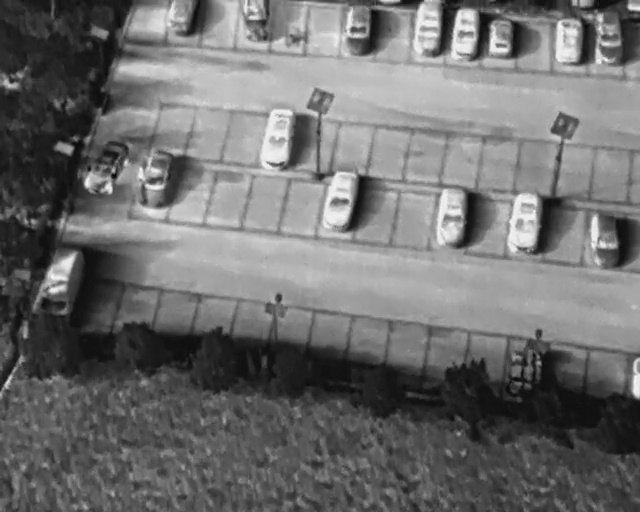Car: (79, 134, 133, 201), (317, 166, 364, 236), (505, 188, 546, 257), (257, 106, 298, 175), (133, 146, 177, 209), (439, 184, 469, 249), (450, 6, 484, 60), (589, 212, 619, 270), (594, 8, 623, 68), (343, 2, 373, 55), (416, 0, 442, 58), (240, 0, 273, 42), (555, 16, 584, 63), (488, 16, 515, 58), (167, 1, 199, 36)
OtherVehicle: (32, 241, 90, 320)
